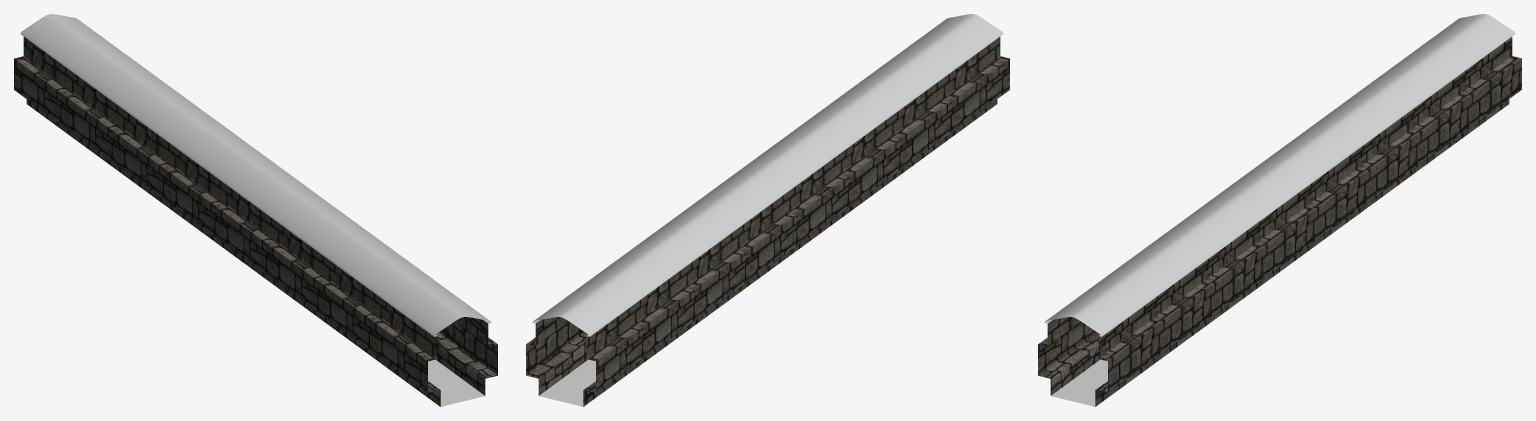
File: TombAlleyFinal.FBX
The picture shows the model from 3 angles, left to right: view 1: azimuth 30°, elevation 25°; view 2: azimuth 150°, elevation 25°; view 3: azimuth 330°, elevation 25°; orthographic projection.
Visible parts, largest first — view 1: Tomb_AlleyFinal; view 2: Tomb_AlleyFinal; view 3: Tomb_AlleyFinal.
Part boxes in pixels (x1,y1,x2,y2): Tomb_AlleyFinal: (14,14,497,406); Tomb_AlleyFinal: (526,14,1009,406); Tomb_AlleyFinal: (1038,14,1521,406).
Bounding box in the file's own units: 435 × 500 × 4454.
